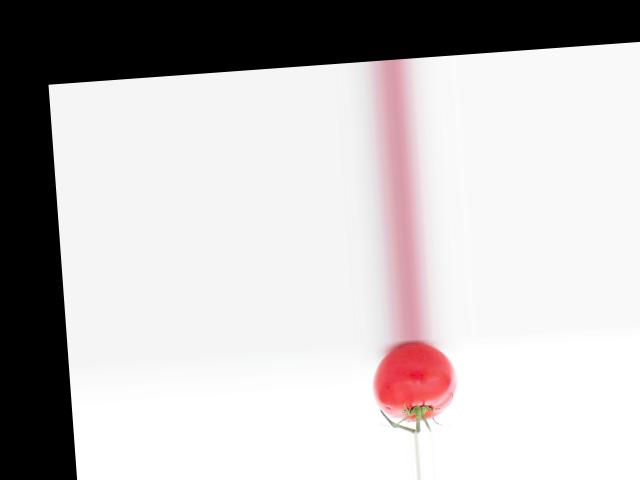tomato: (370, 339, 460, 423)
